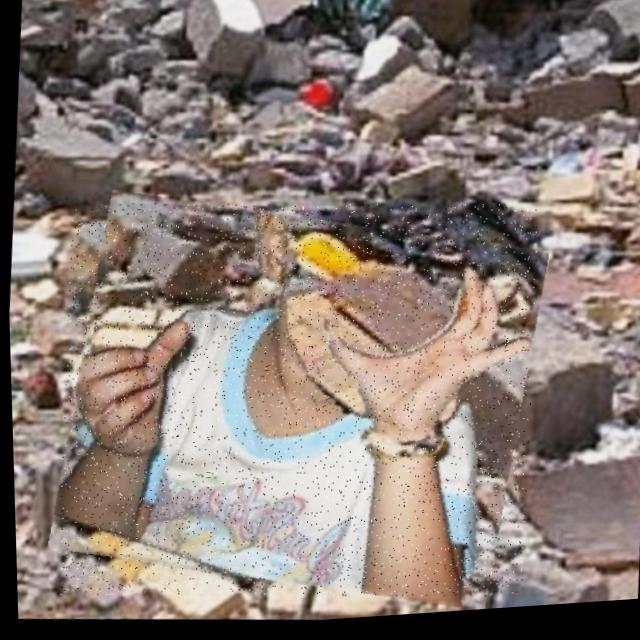Person in Rubble: (44, 179, 546, 628)
